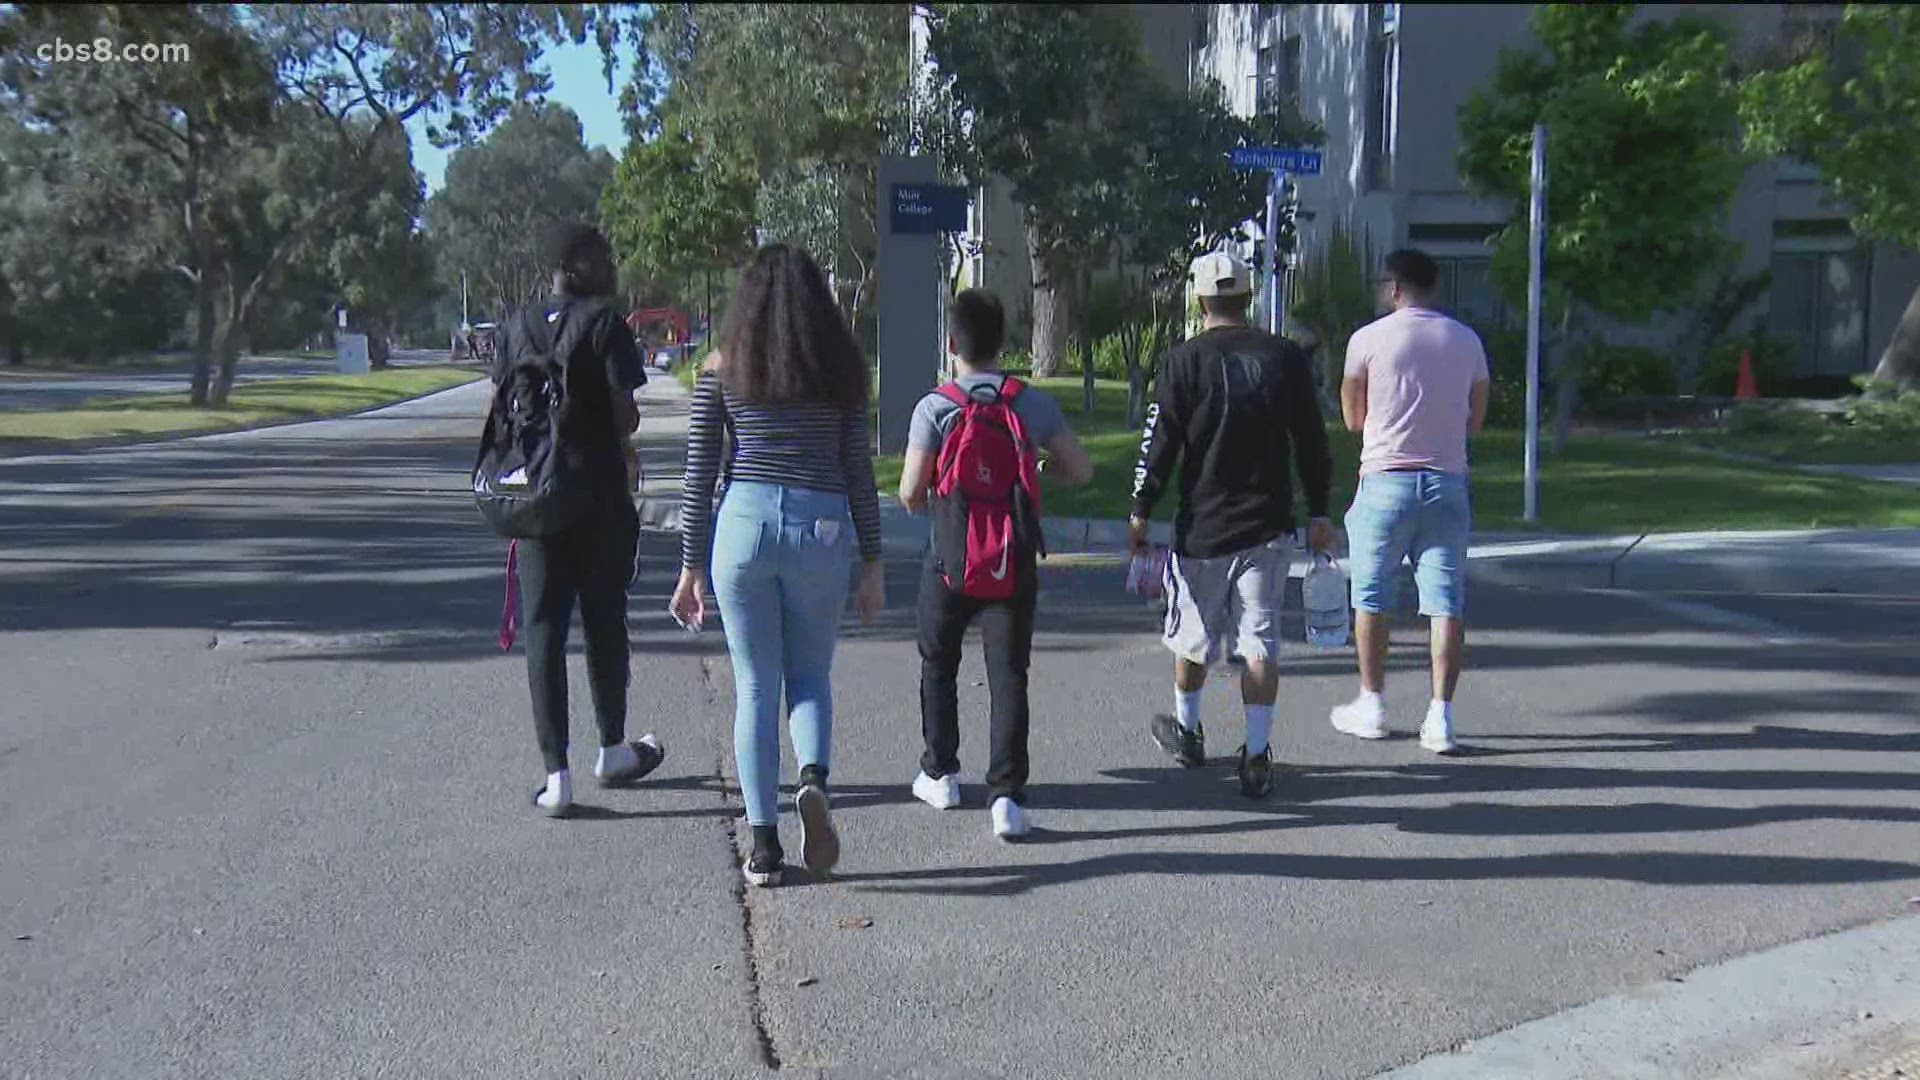Person: (662, 242, 891, 891), (1124, 249, 1350, 801), (466, 224, 670, 822), (897, 285, 1097, 842), (1330, 247, 1493, 756)
